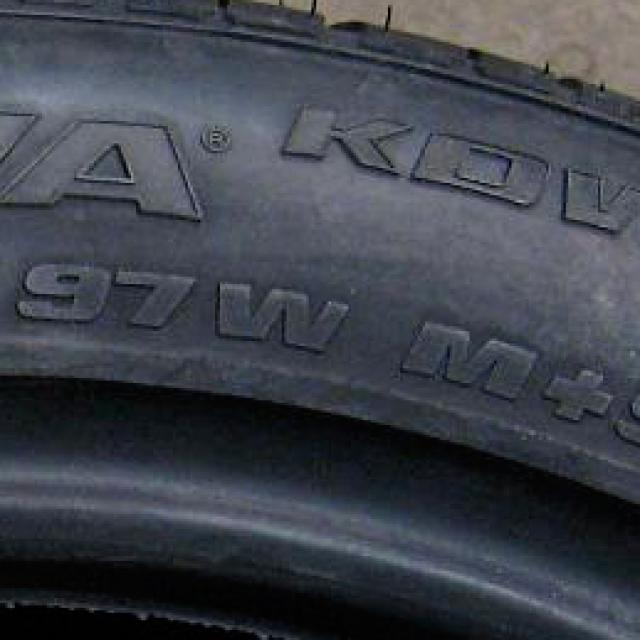Non-defective: (0, 93, 537, 640)
